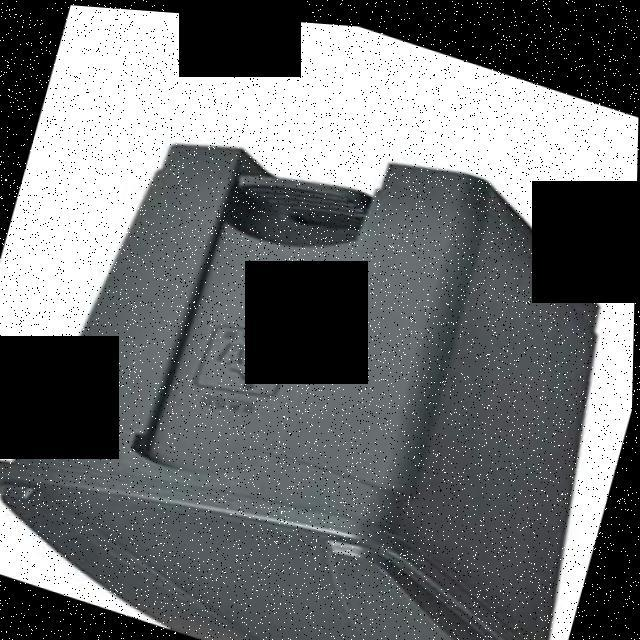bin: (0, 22, 640, 640)
